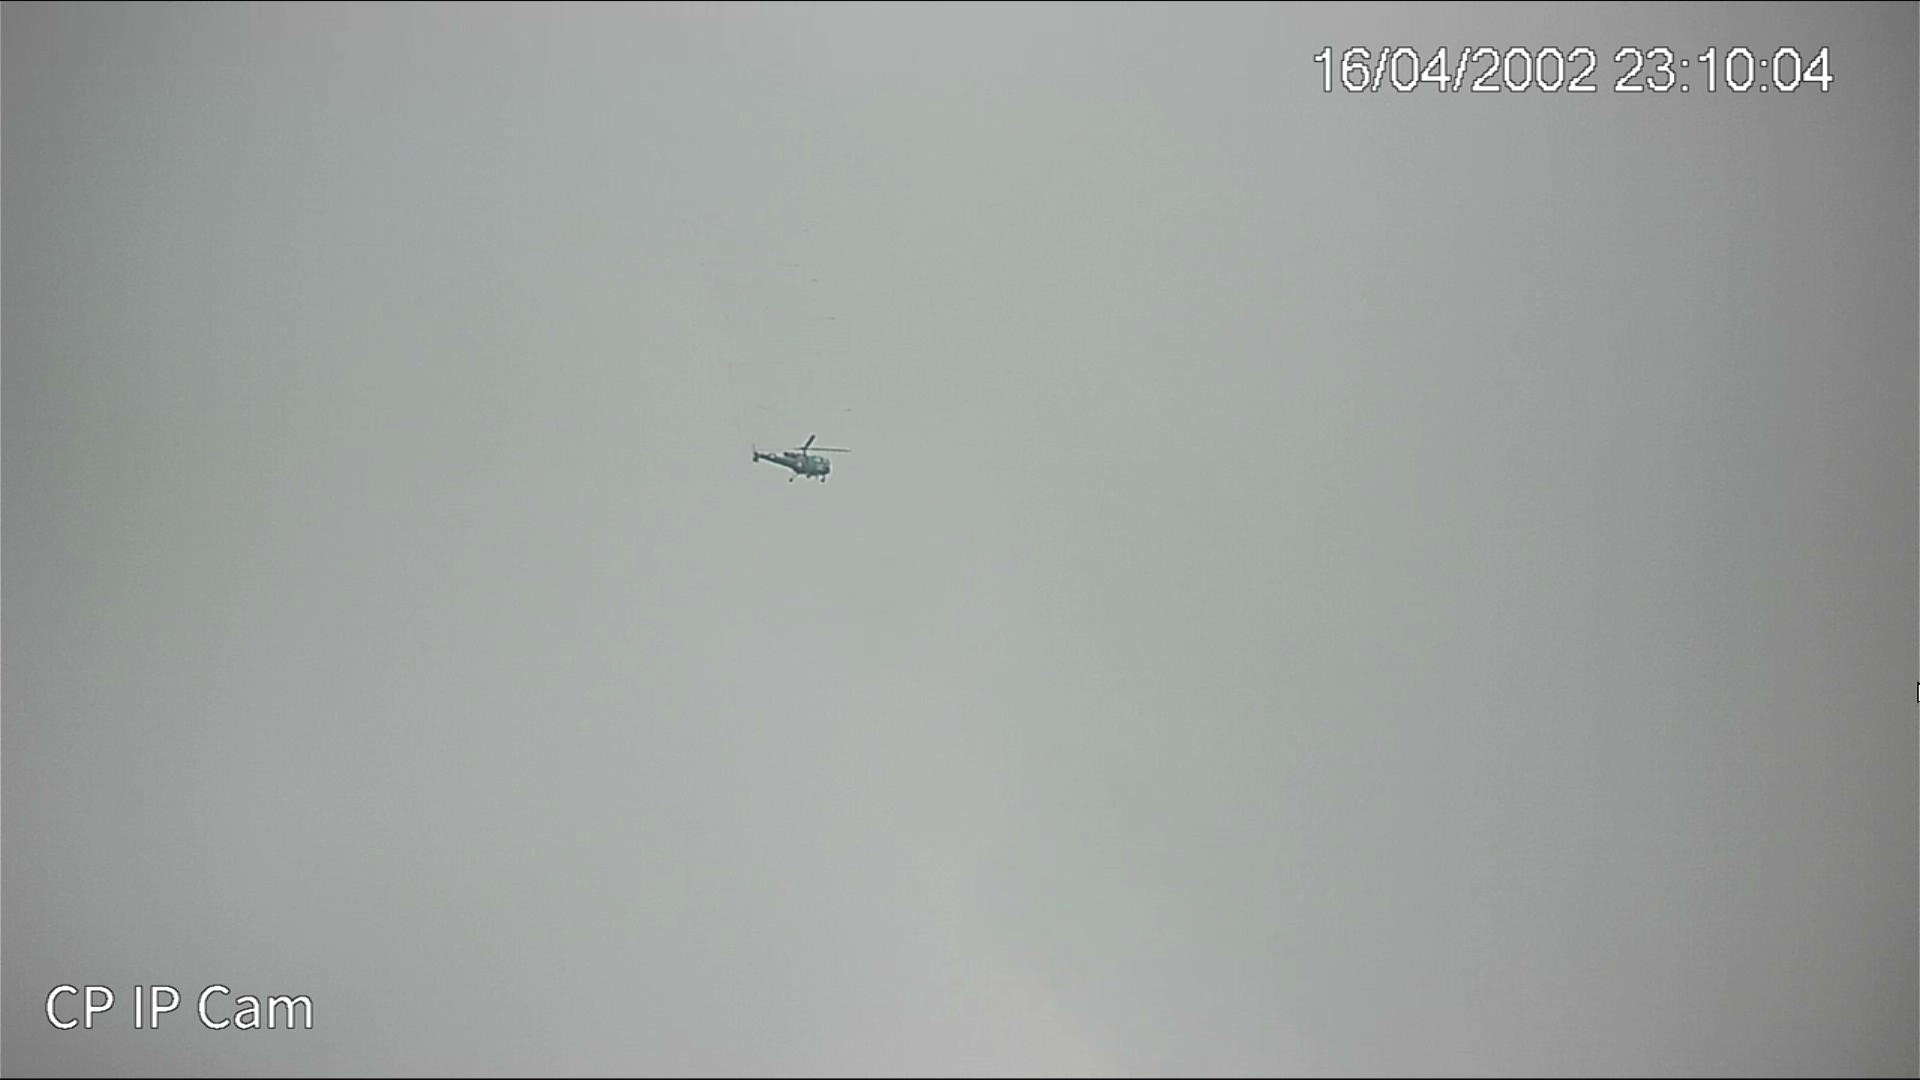SU_30: (749, 444, 843, 483)
